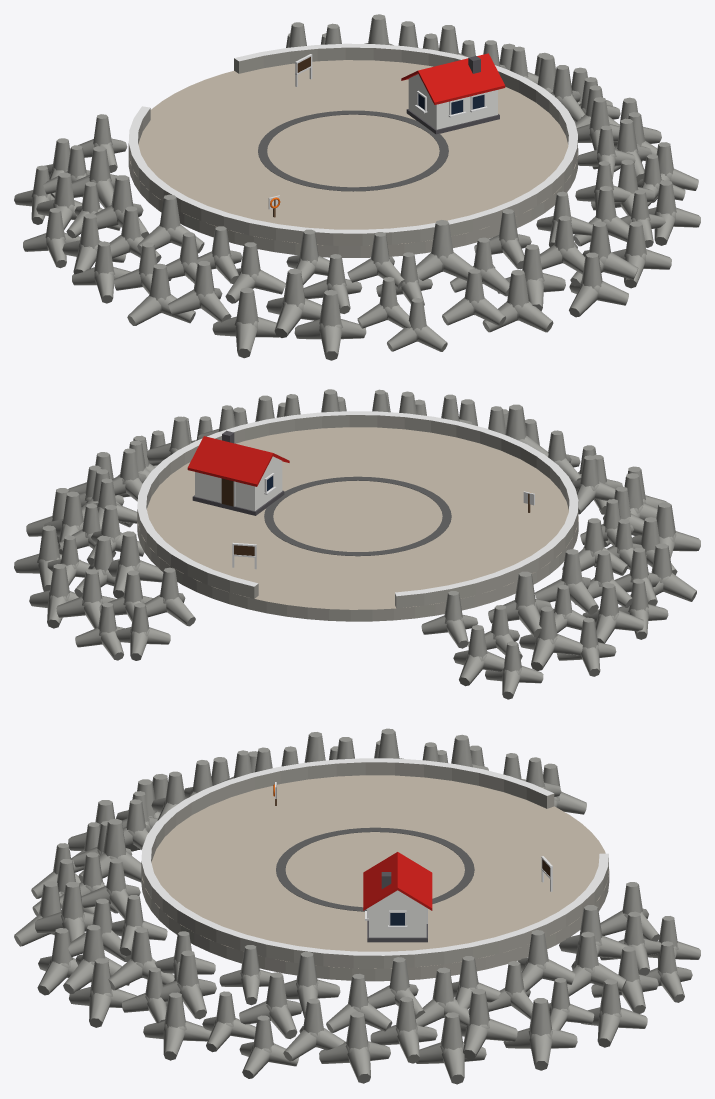
The model's file is SM_Lighthouse_Platform.fbx.
The picture shows the model from 3 angles, top to bottom: view 1: azimuth 30°, elevation 25°; view 2: azimuth 150°, elevation 25°; view 3: azimuth 270°, elevation 25°; orthographic projection. The views are drawn at different scales.
Parts seen in each view (by area): view 1: SM_Lighthouse_Platform; view 2: SM_Lighthouse_Platform; view 3: SM_Lighthouse_Platform.
Part boxes in pixels (bbox=[...]): SM_Lighthouse_Platform: bbox=[14, 14, 700, 360]; SM_Lighthouse_Platform: bbox=[14, 389, 700, 699]; SM_Lighthouse_Platform: bbox=[14, 728, 700, 1084].
Size of the model in its own units: 44.18 by 8.87 by 42.86.
